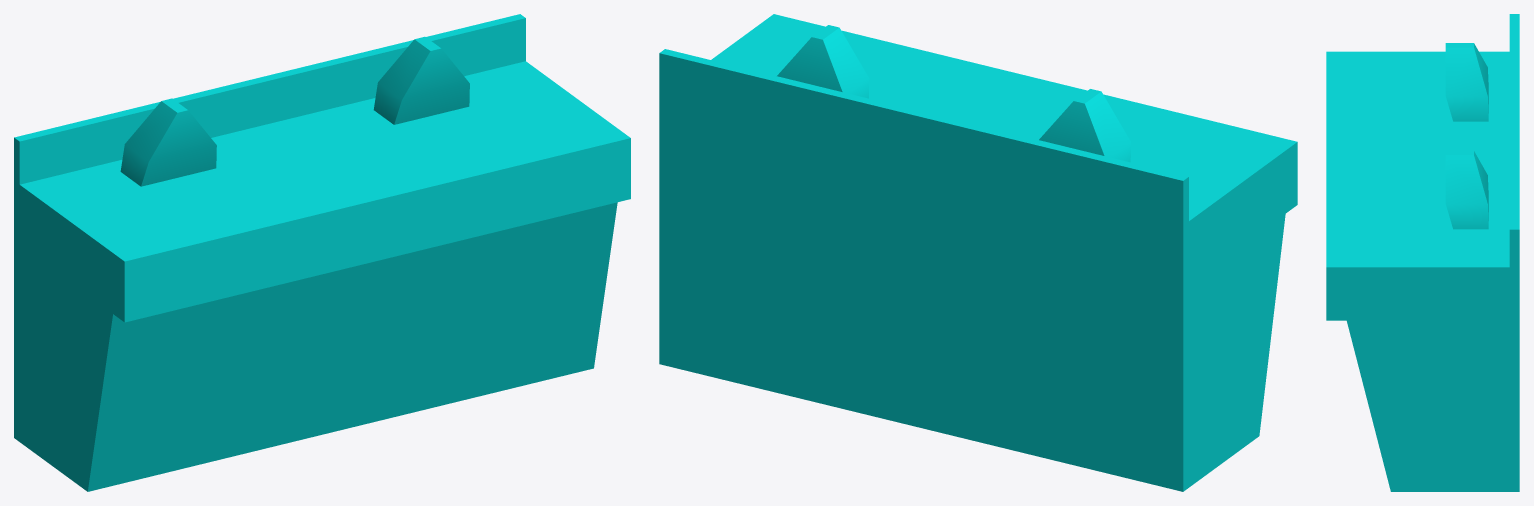
The model's file is SM_Prop_Sink_01_Collision.fbx.
The picture shows the model from 3 angles, left to right: view 1: azimuth 30°, elevation 25°; view 2: azimuth 150°, elevation 25°; view 3: azimuth 270°, elevation 25°; orthographic projection. The views are drawn at different scales.
Visible parts, largest first — view 1: SM_Prop_Sink_01_Collision; view 2: SM_Prop_Sink_01_Collision; view 3: SM_Prop_Sink_01_Collision.
Part boxes in pixels (left/top/right/bottom): SM_Prop_Sink_01_Collision: left=14, top=14, right=630, bottom=491; SM_Prop_Sink_01_Collision: left=659, top=14, right=1297, bottom=491; SM_Prop_Sink_01_Collision: left=1326, top=14, right=1519, bottom=491.
Size of the model in its own units: 200 by 123 by 75.69.
